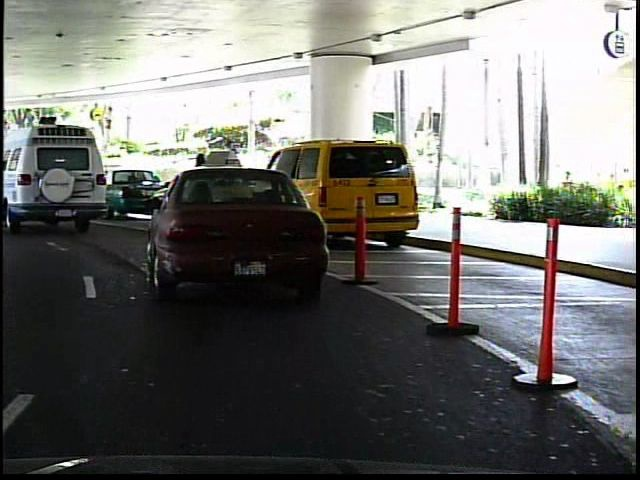person: (186, 147, 212, 213), (223, 144, 248, 211), (63, 153, 86, 198), (5, 158, 23, 198)
